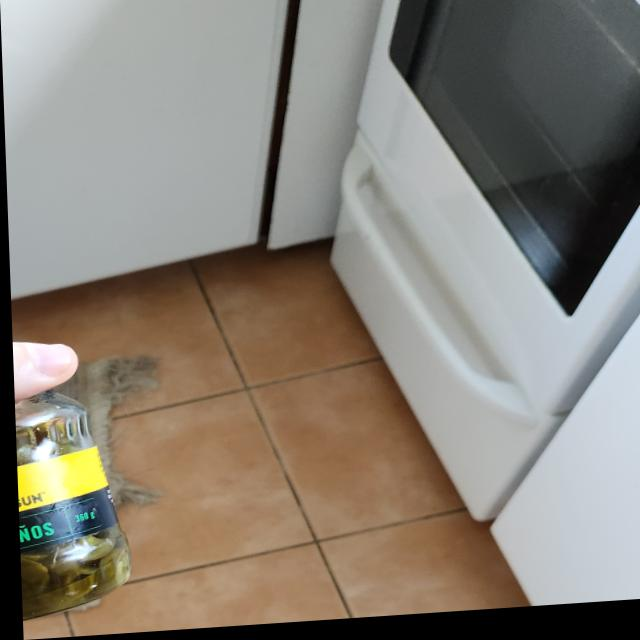jalapeno: (12, 391, 130, 624)
